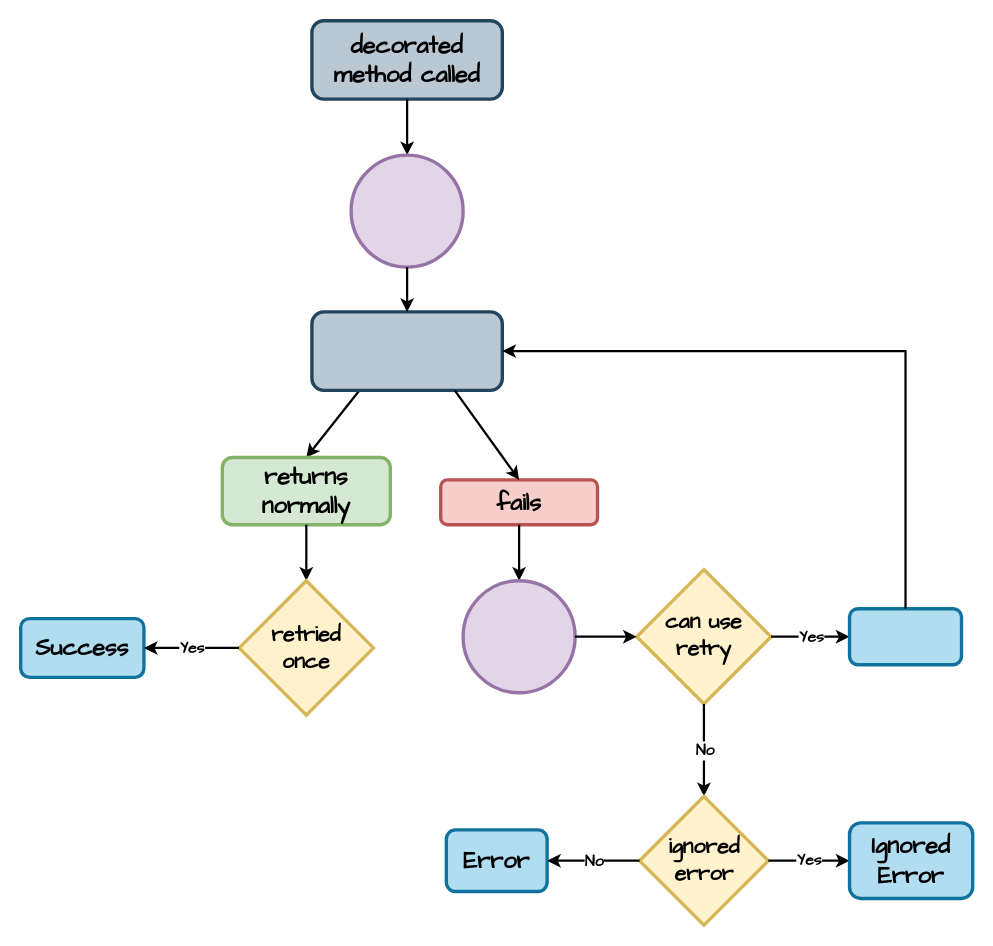
The diagram is 993 pixels wide and 946 high, and some of its shapes have lost their labels. Each missing label, with the centre of its shape:
"consult policies" belongs at pixel 518 636.
"create context" belongs at pixel 406 210.
"original method called" belongs at pixel 406 350.
"Retry" belongs at pixel 905 636.
